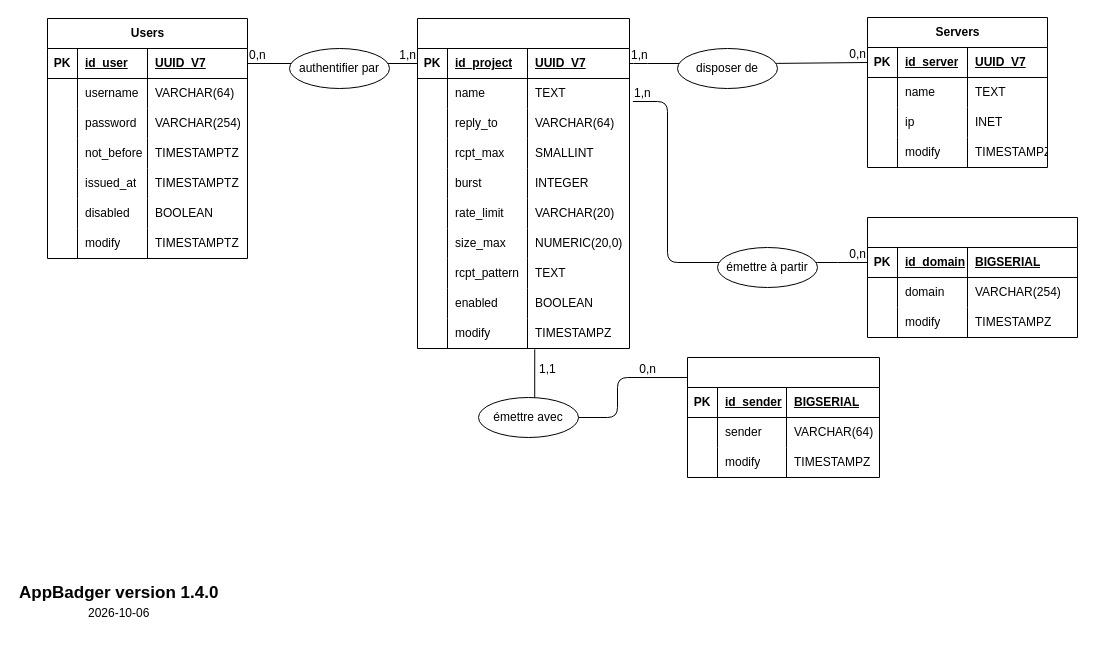
This 1095x645 diagram has some shape labels left out. The box of each missing label's shape, as (x1, y1, x2, y2) in pixels:
Domains: (866, 216, 1078, 338)
Projects: (416, 18, 630, 348)
Senders: (686, 356, 880, 478)
